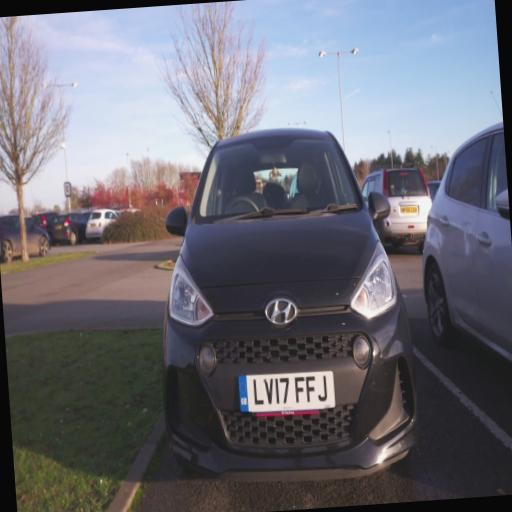numberplates: (239, 371, 335, 414), (400, 205, 418, 214), (89, 223, 96, 228), (55, 226, 62, 230)
